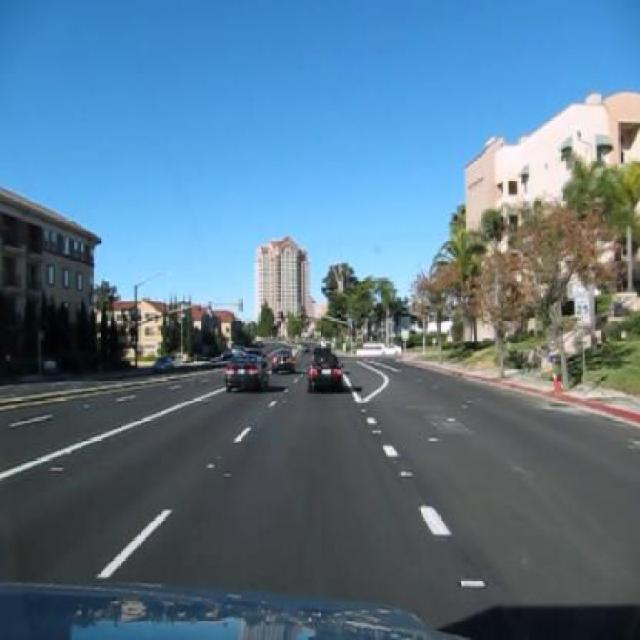speedLimit25: (574, 289, 591, 317)
